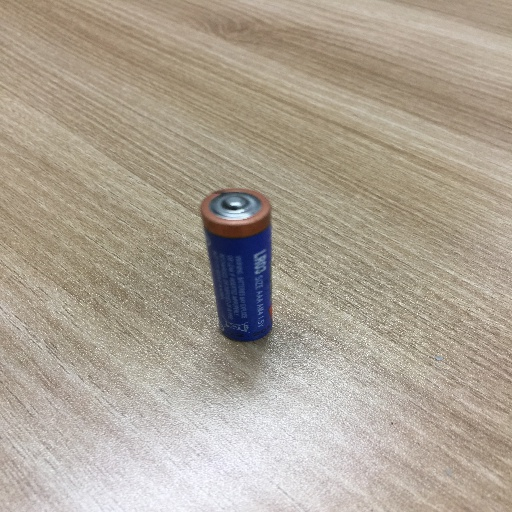Battery_0: (183, 173, 288, 357)
